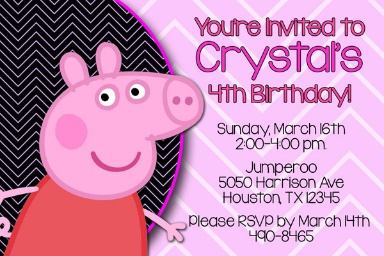Peppa: (2, 42, 208, 256)
